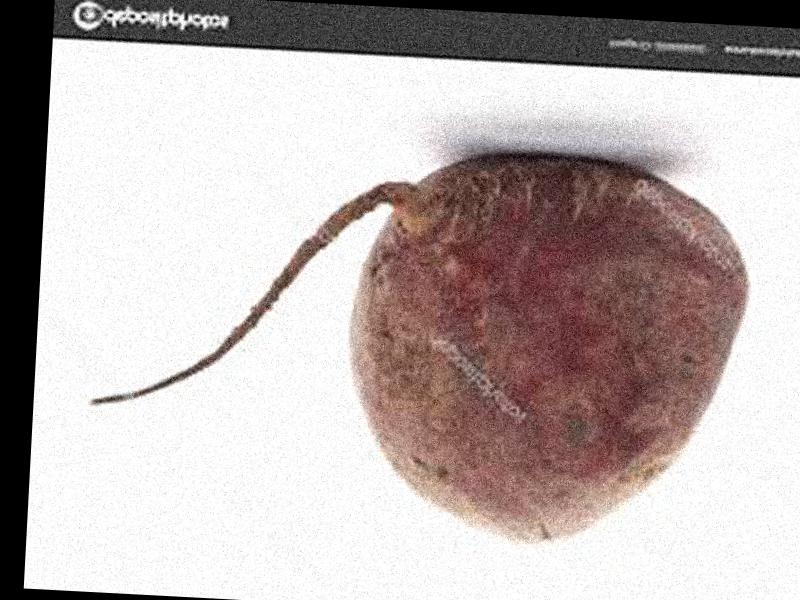Beet: (87, 132, 754, 548)
